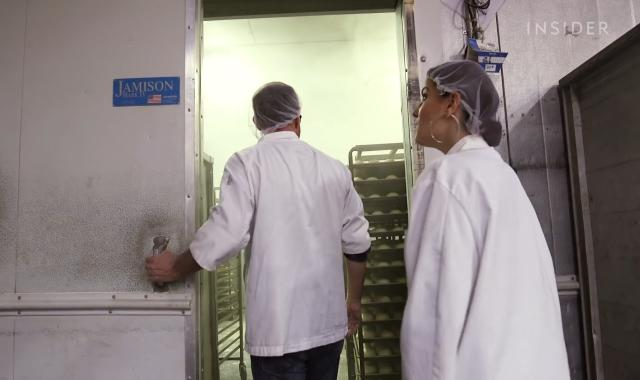hairnet: (427, 60, 506, 145), (247, 79, 302, 133)
